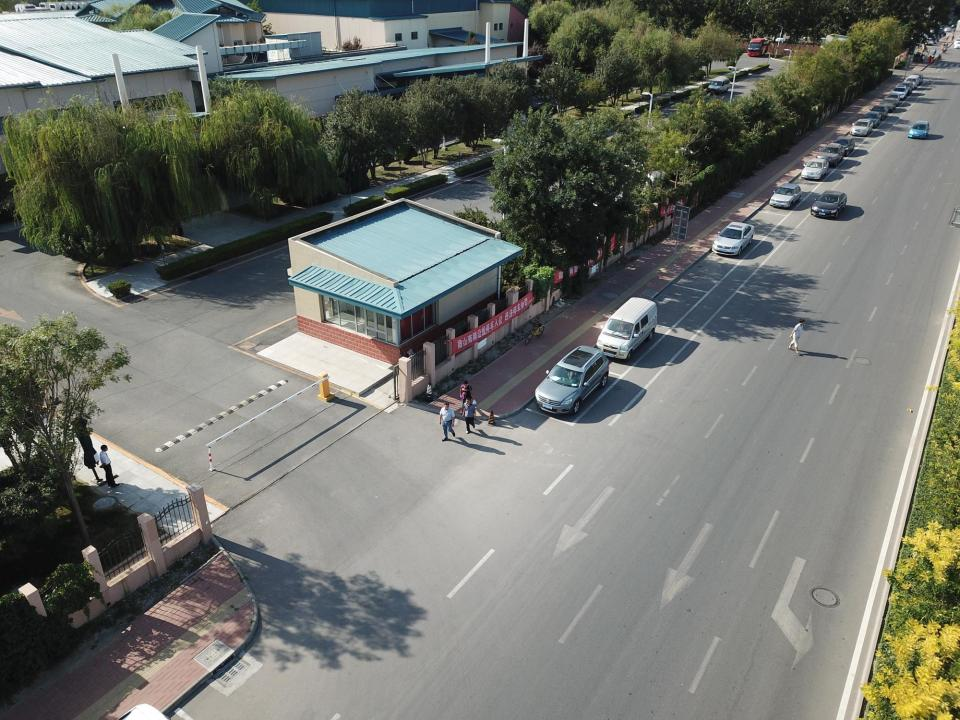bus: (748, 38, 770, 56)
car: (530, 344, 613, 415), (598, 296, 660, 360), (710, 220, 757, 256), (811, 189, 848, 219), (768, 183, 802, 210), (814, 143, 844, 166), (800, 158, 828, 180), (849, 118, 873, 137), (832, 135, 854, 155), (907, 120, 930, 138), (876, 97, 898, 111), (707, 78, 730, 91), (862, 112, 880, 127), (890, 84, 908, 98), (903, 74, 920, 88), (870, 105, 888, 118), (884, 93, 901, 104), (899, 81, 913, 92), (913, 74, 924, 82)
